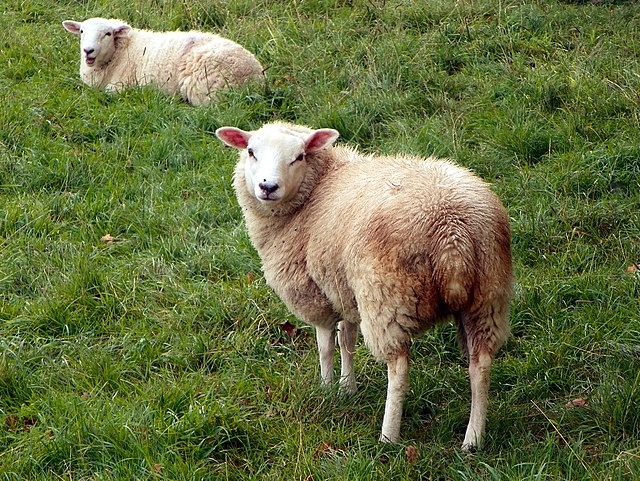resting: (61, 15, 269, 113)
standing: (217, 120, 510, 449)
